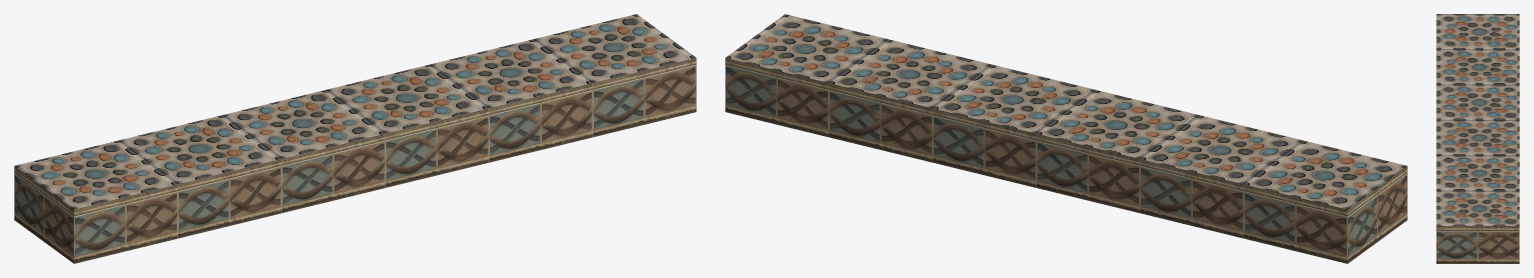
The model's file is DI_009_pattern_block_var06.glb.
3 renders of one model, left to right at view 1: azimuth 30°, elevation 25°; view 2: azimuth 150°, elevation 25°; view 3: azimuth 270°, elevation 25°, orthographic. The views are drawn at different scales.
Parts seen in each view (by area): view 1: Block.018, Block.021, Block.020, Block.023, Block.022, Block.019; view 2: Block.018, Block.021, Block.020, Block.023, Block.022, Block.019; view 3: Block.023, Block.018, Block.019, Block.020, Block.021, Block.022.
Part boxes in pixels (bbox=[...]): Block.018: bbox=[14, 140, 177, 263]; Block.021: bbox=[326, 64, 489, 187]; Block.020: bbox=[222, 90, 385, 213]; Block.023: bbox=[533, 14, 696, 137]; Block.022: bbox=[429, 39, 592, 162]; Block.019: bbox=[118, 115, 281, 238]; Block.018: bbox=[1244, 140, 1407, 263]; Block.021: bbox=[932, 64, 1095, 187]; Block.020: bbox=[1036, 90, 1199, 213]; Block.023: bbox=[725, 14, 888, 137]; Block.022: bbox=[829, 39, 992, 162]; Block.019: bbox=[1140, 115, 1303, 238]; Block.023: bbox=[1436, 190, 1519, 263]; Block.018: bbox=[1436, 14, 1519, 49]; Block.019: bbox=[1436, 49, 1519, 84]; Block.020: bbox=[1436, 84, 1519, 119]; Block.021: bbox=[1436, 120, 1519, 155]; Block.022: bbox=[1436, 155, 1519, 190].
Bounding box in the file's own units: 4.5 × 0.375 × 0.75.
1 material, 1 textured.
